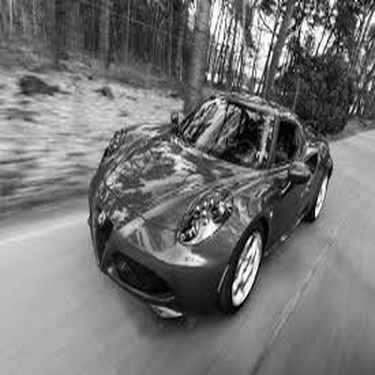car: (81, 81, 339, 330)
